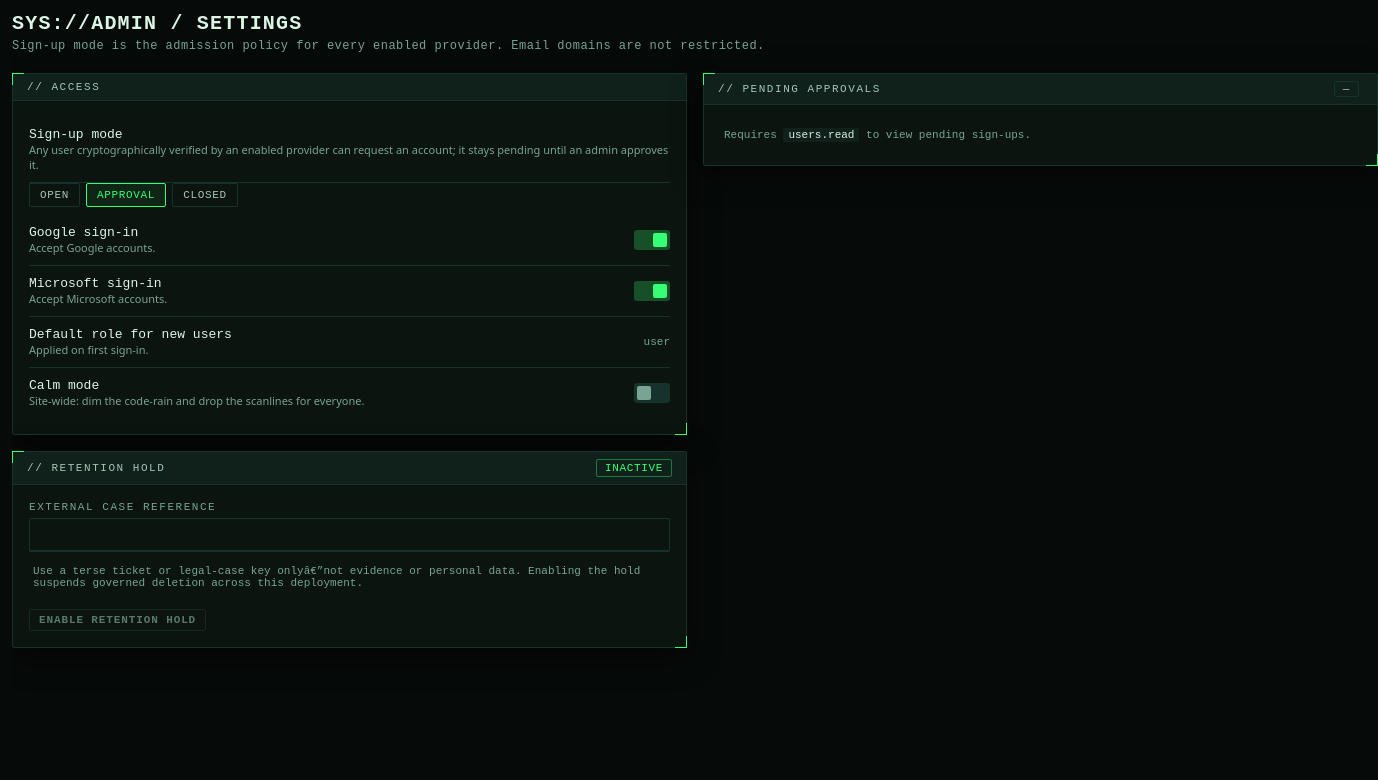
Test case: SettingsPage permission-aware controls › permission-gates retention controls and confirms hold enablement with an external reference
Check: the button "Enable retention hold" is disabled, box left=29, top=609, right=206, bottom=631
Type "LEGAL-2026-0042" into the field labelled "External case reference" at (350, 535), box left=29, top=518, right=670, bottom=552
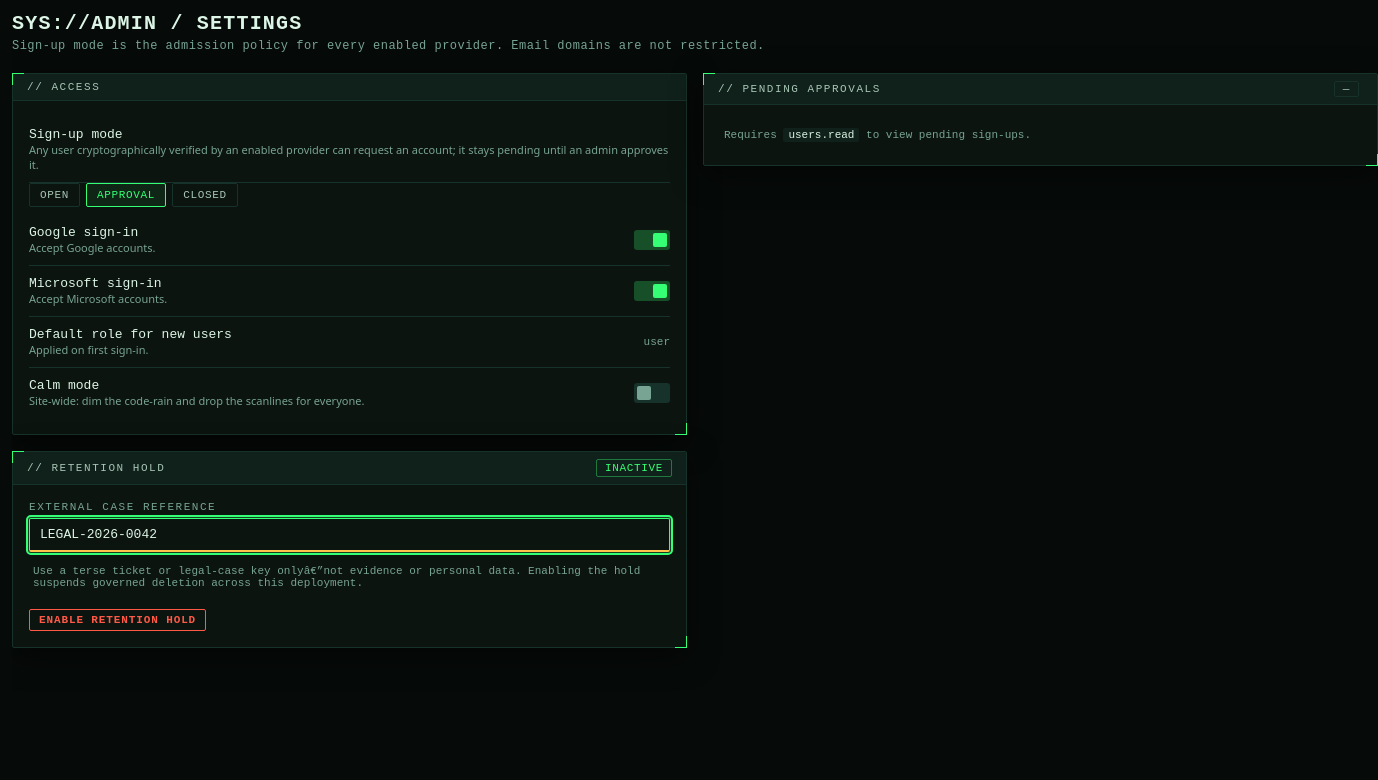
Check: the button "Enable retention hold" is enabled
Click the button "Enable retention hold" at (118, 620), box left=29, top=609, right=206, bottom=631
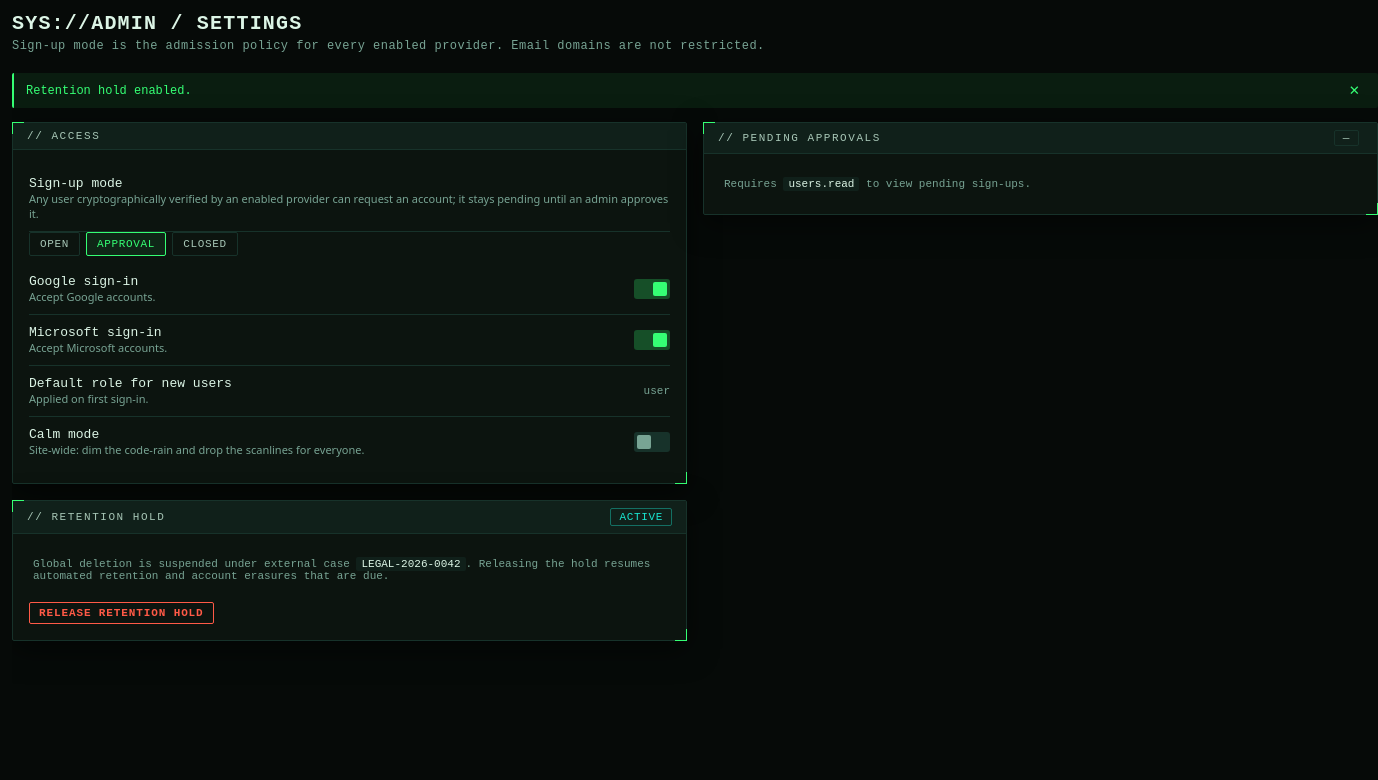
Check: the text "Retention hold enabled." is shown, box left=26, top=84, right=192, bottom=98
Check: the text "LEGAL-2026-0042" is shown, box left=356, top=557, right=466, bottom=571
